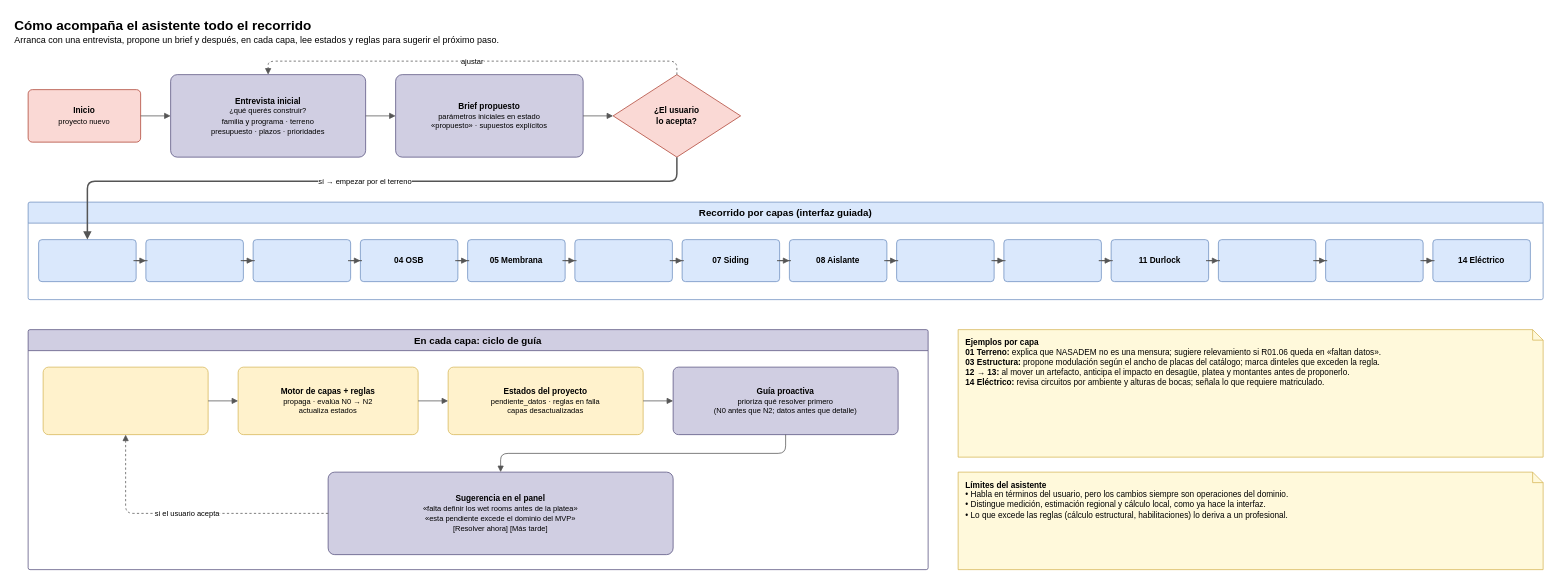
The diagram is 1556 pixels wide and 583 high, and some of its shapes have lost their labels. Each missing label, with the centre of its shape:
"01 Terreno" goes at [87,260].
"02 Cimientos" goes at [194,260].
"03 Estructura" goes at [301,260].
"06 Rastreles" goes at [623,260].
"09 Roofing" goes at [945,260].
"10 Canaletas" goes at [1052,260].
"12 Mobiliario" goes at [1267,260].
"13 Plomería" goes at [1374,260].
"Operación del usuario (interfaz) o propuesta de la IA confirmada" goes at [125,400].
